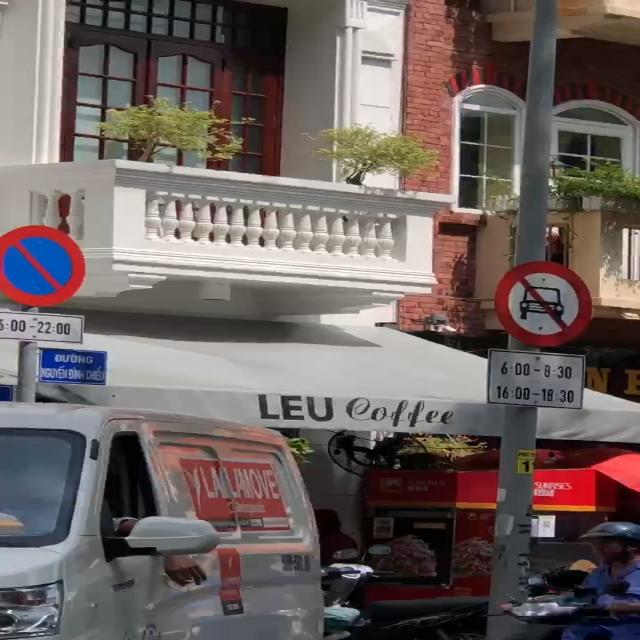Bien bao cam do xe: (0, 221, 95, 307)
Bien bao cam xe oto: (490, 253, 605, 342)
